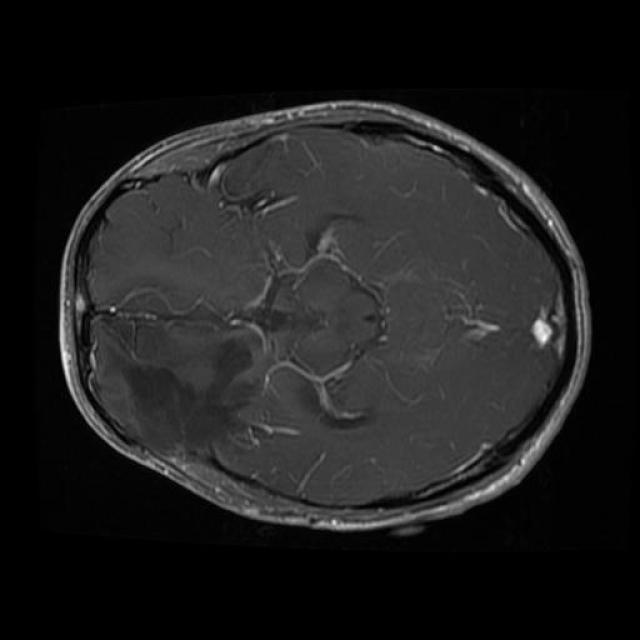Glioma: (105, 340, 251, 454)
